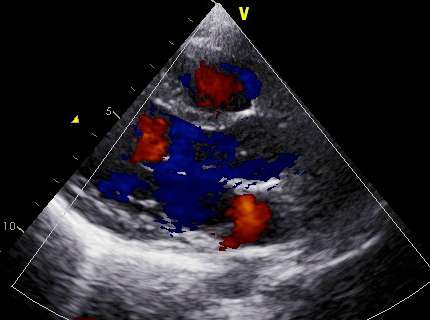MR: (156, 174, 211, 233)
